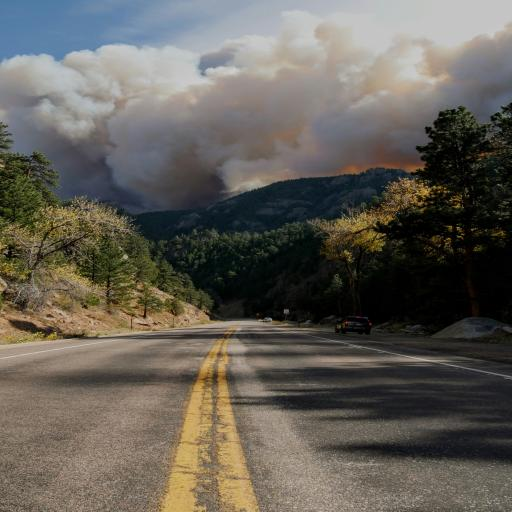smoke: (15, 26, 512, 165)
